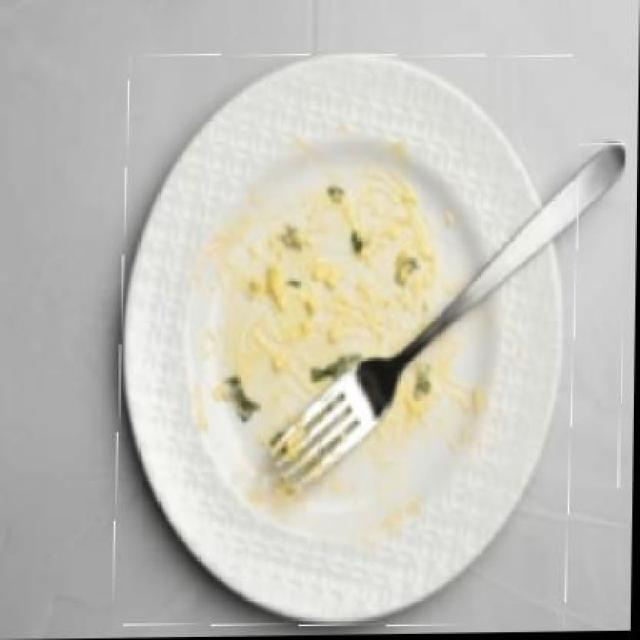Plate: (117, 52, 580, 630)
